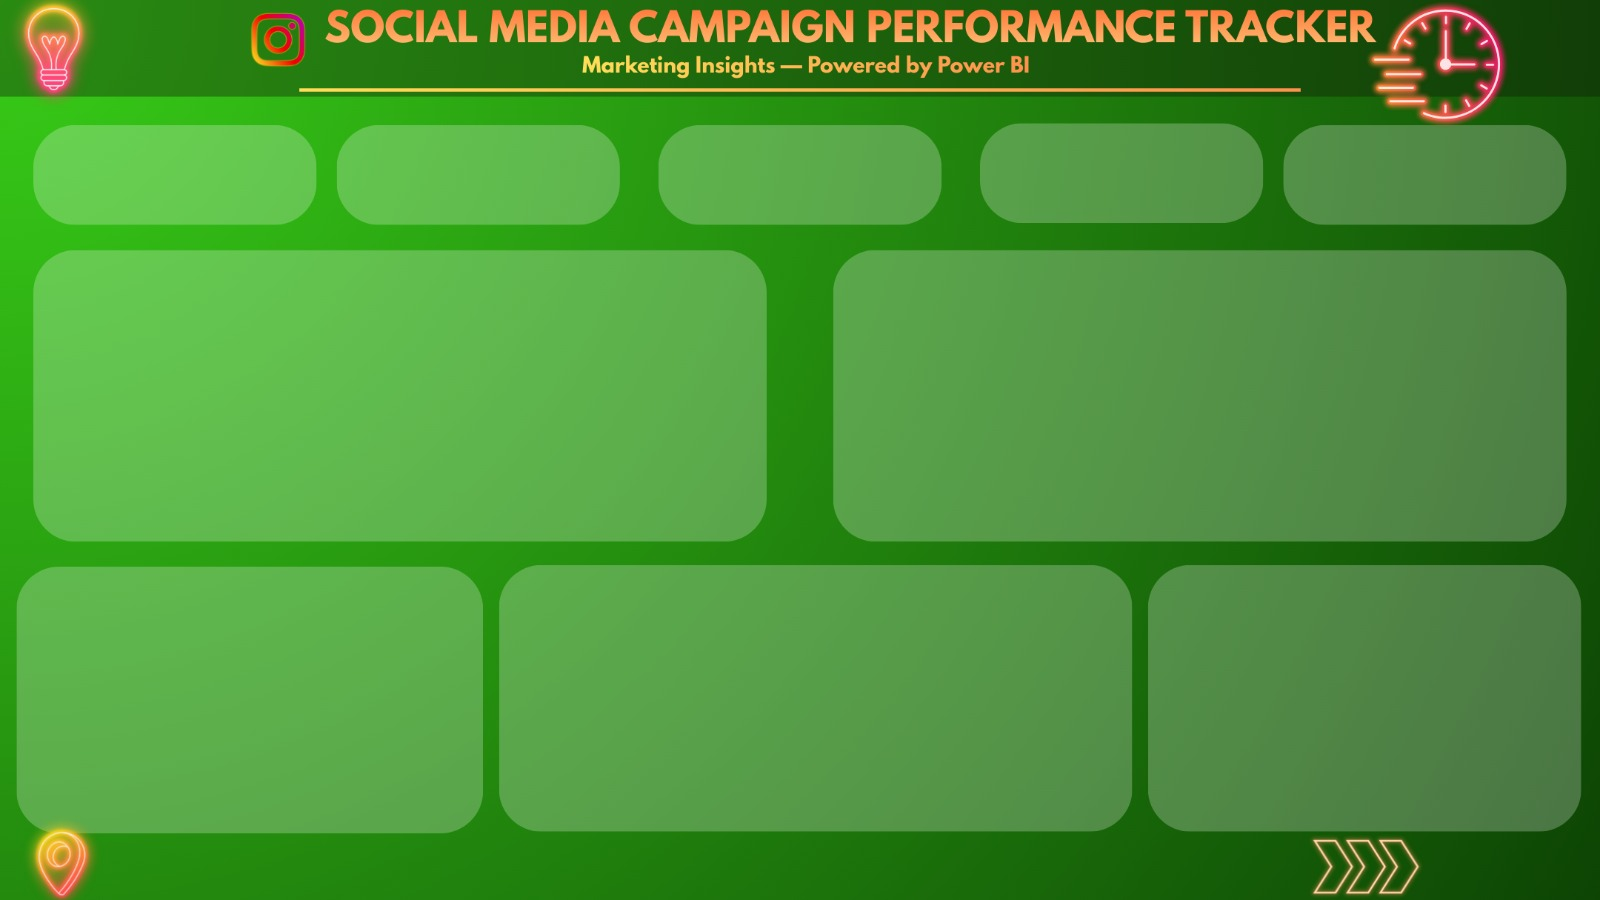

The dashboard page shown, as its layout file describes it:
{"tool":"powerbi","page":{"name":"Page 1","canvas":[1280,720],"ordinal":0},"visuals":[{"type":"cardVisual","fields":{"Data":["Advertising_Data.Total Sales"]},"box":[68.9,77.3,245.2,119.3],"z":0},{"type":"cardVisual","fields":{"Data":["Advertising_Data.Total Spend"]},"box":[294,77.3,245.2,119.3],"z":1000},{"type":"cardVisual","fields":{"Data":["Advertising_Data.Average Sales"]},"box":[561,77.3,245.2,119.3],"z":2000},{"type":"cardVisual","fields":{"Data":["Advertising_Data.Max Sales"]},"box":[806.3,77.3,245.2,119.3],"z":3000},{"type":"cardVisual","fields":{"Data":["Advertising_Data.Campaign Count"]},"box":[1034.8,77.3,245.2,119.3],"z":4000},{"type":"lineClusteredColumnComboChart","fields":{"Category":["Advertising_Data.Product_Sold"],"Y":["Advertising_Data.Total Spend"],"Y2":["Advertising_Data.Total Sales"]},"box":[51,197,527.2,239.5],"z":5000},{"type":"clusteredBarChart","fields":{"Category":["Advertising_Data.TV","Advertising_Data.Billboards","Advertising_Data.Google_Ads","Advertising_Data.Influencer_Marketing","Advertising_Data.Affiliate_Marketing","Advertising_Data.Social_Media"],"Y":["Advertising_Data.Total Spend"]},"box":[683.1,197,559.8,239.5],"z":6000},{"type":"donutChart","title":"Sum of Product Sold by Affiliate Marketing","fields":{"Category":["Advertising_Data.Affiliate_Marketing"],"Y":["Sum(Advertising_Data.Product_Sold)"]},"box":[24.1,456.4,354.3,214],"z":7000},{"type":"clusteredColumnChart","fields":{"Category":["Channels.Channel"],"Y":["Advertising_Data.Channel Efficiency"]},"box":[416.7,456.4,463.5,214],"z":8000},{"type":"textbox","title":"Insights","box":[928.3,446.5,341.6,208.3],"z":9000}]}

Visuals, with their boxes in screenshot pixels (x1, y1, x2, y2), scaled from the page's 1280x720 canvas onto the 1600x900 screenshot:
cardVisual - Advertising_Data.Total Sales: (86,97,393,246)
cardVisual - Advertising_Data.Total Spend: (368,97,674,246)
cardVisual - Advertising_Data.Average Sales: (701,97,1008,246)
cardVisual - Advertising_Data.Max Sales: (1008,97,1314,246)
cardVisual - Advertising_Data.Campaign Count: (1294,97,1599,246)
lineClusteredColumnComboChart - Advertising_Data.Product_Sold x Advertising_Data.Total Spend: (64,246,723,546)
clusteredBarChart - Advertising_Data.TV x Advertising_Data.Billboards: (854,246,1554,546)
"Sum of Product Sold by Affiliate Marketing" donutChart: (30,570,473,838)
clusteredColumnChart - Channels.Channel x Advertising_Data.Channel Efficiency: (521,570,1100,838)
"Insights" textbox: (1160,558,1587,818)
